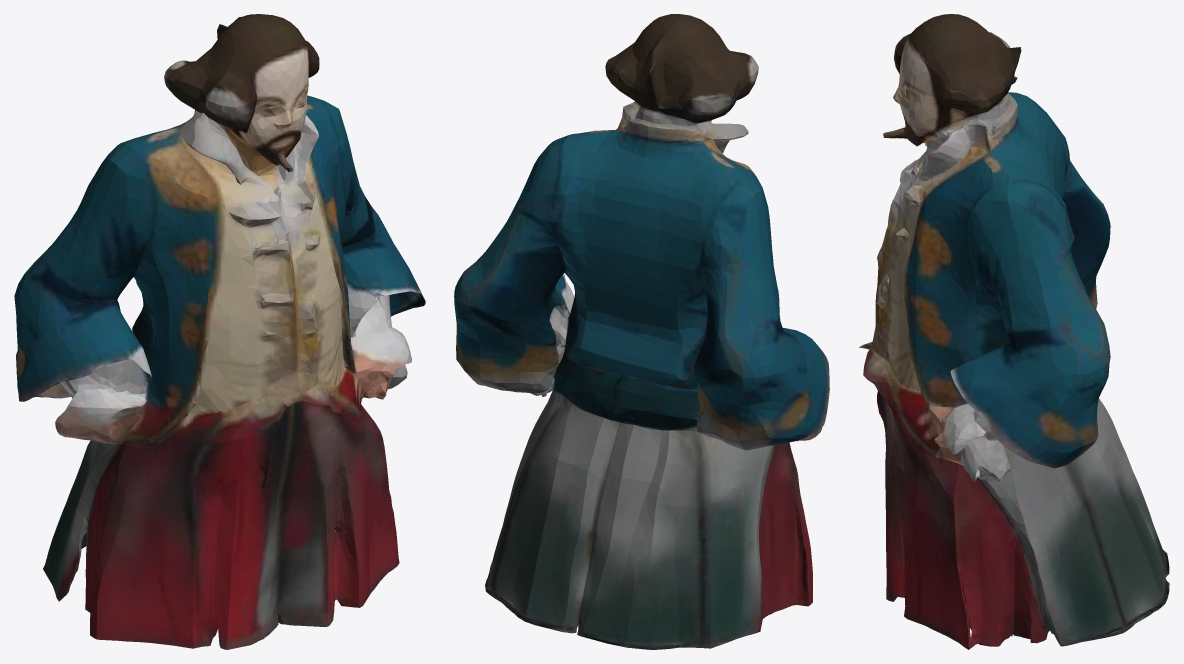
File: anime_renais_merchant.glb
3 renders of one model, left to right at view 1: azimuth 30°, elevation 25°; view 2: azimuth 150°, elevation 25°; view 3: azimuth 270°, elevation 25°, orthographic. The views are drawn at different scales.
Visible parts, largest first — view 1: geometry_0; view 2: geometry_0; view 3: geometry_0.
Boxes of the visible parts, bbox=[...] form: geometry_0: bbox=[14, 14, 425, 649]; geometry_0: bbox=[454, 14, 829, 649]; geometry_0: bbox=[859, 14, 1169, 649].
Bounding box in the file's own units: 0.6989 × 1 × 0.4991.
1 material, 1 textured.
